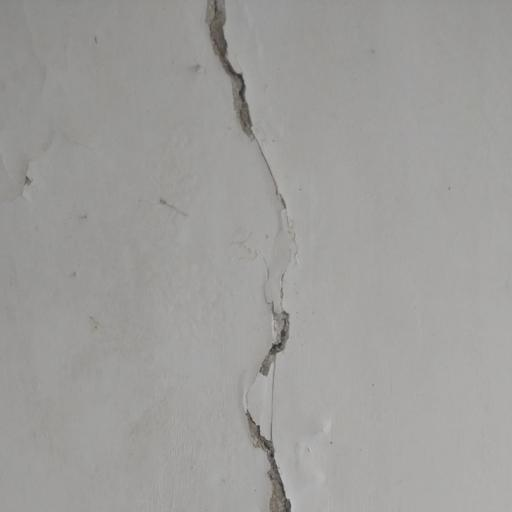major_crack: (188, 2, 307, 512)
